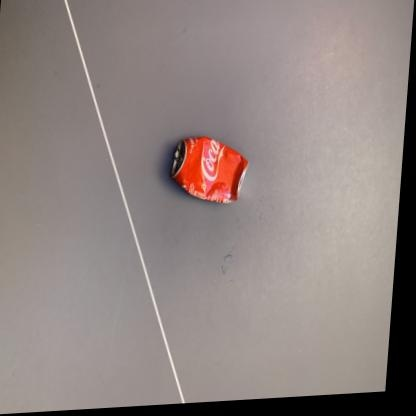trash: (170, 136, 247, 202)
